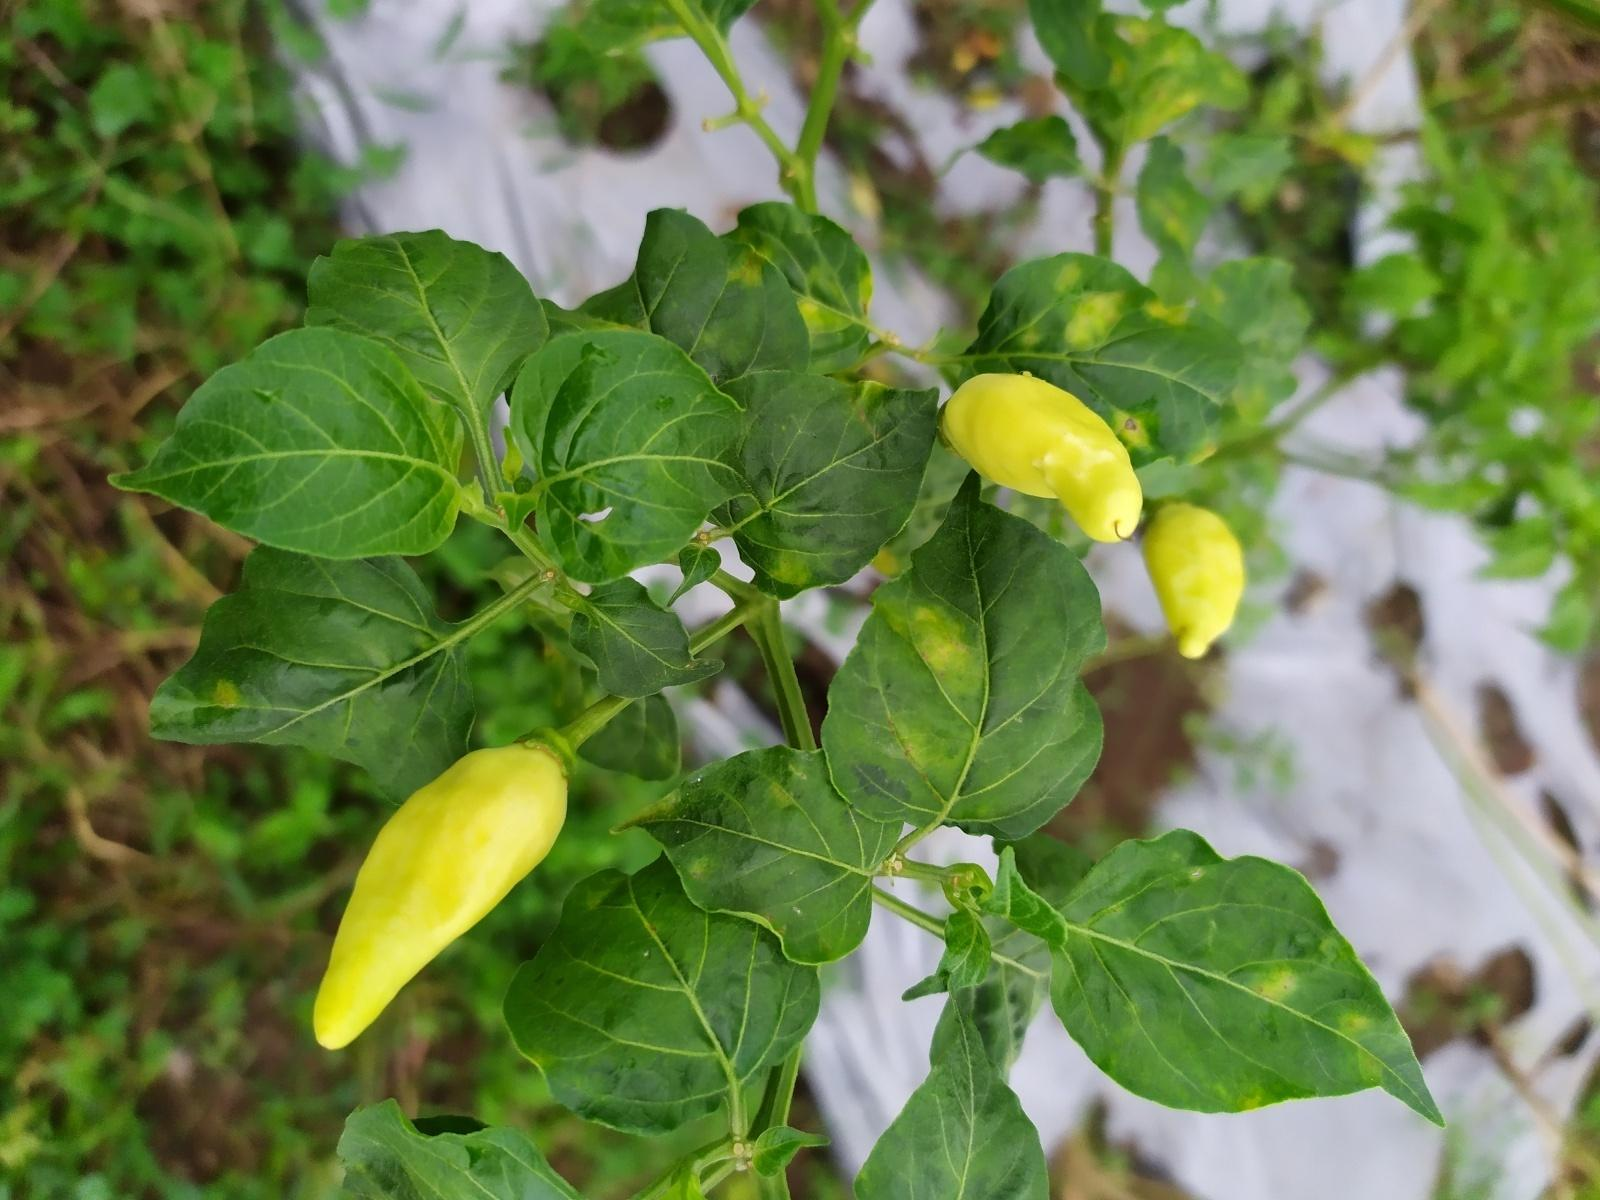cabai_normal: (312, 742, 569, 1053), (941, 373, 1146, 543), (1139, 503, 1247, 658)
